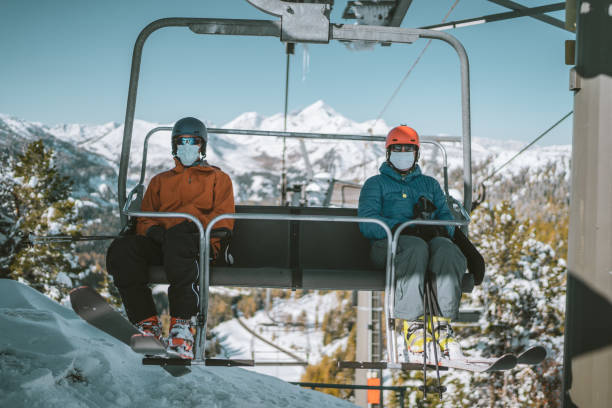with mask: (378, 125, 426, 180), (166, 115, 214, 170)
